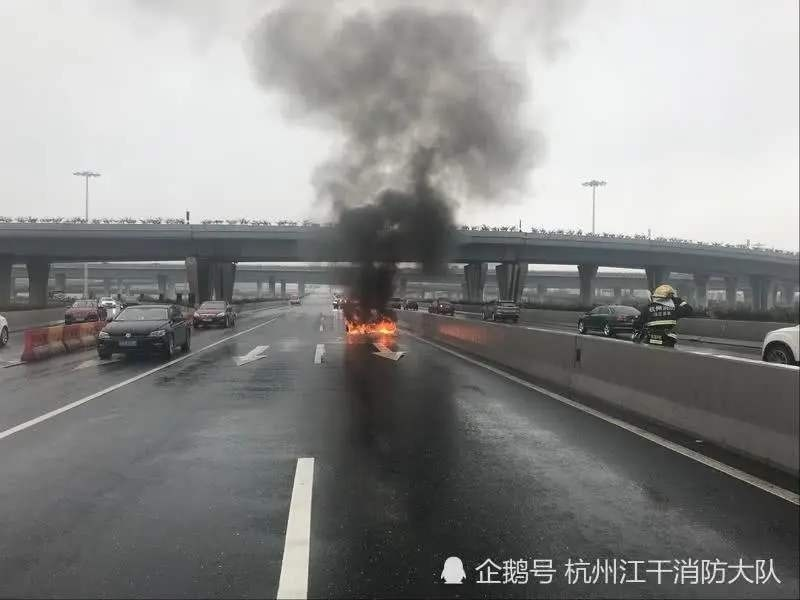fire: (343, 310, 399, 349)
